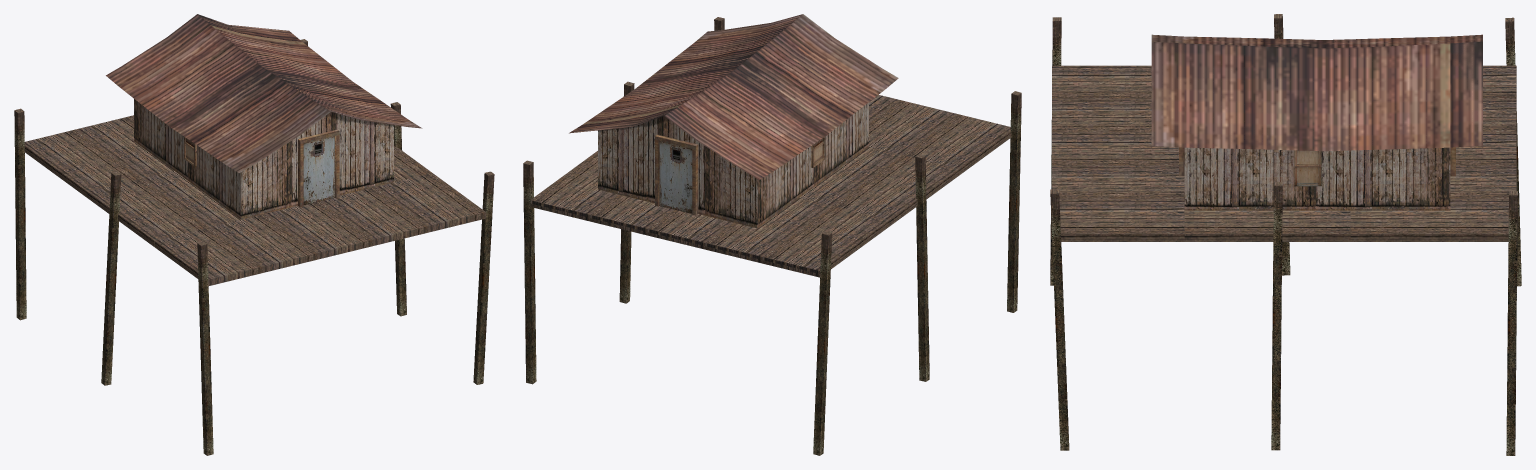
The model's file is PBld02.glb.
3 renders of one model, left to right at view 1: azimuth 30°, elevation 25°; view 2: azimuth 150°, elevation 25°; view 3: azimuth 270°, elevation 25°, orthographic. The views are drawn at different scales.
Visible parts, largest first — view 1: _PBld02; view 2: _PBld02; view 3: _PBld02.
Part boxes in pixels (box(x1,y1,x2,y2)): _PBld02: box(14, 14, 494, 455); _PBld02: box(523, 14, 1021, 455); _PBld02: box(1050, 14, 1521, 455).
Size of the model in its own units: 12.87 by 11.37 by 14.2.
Materials: 5 (5 with a texture image).
